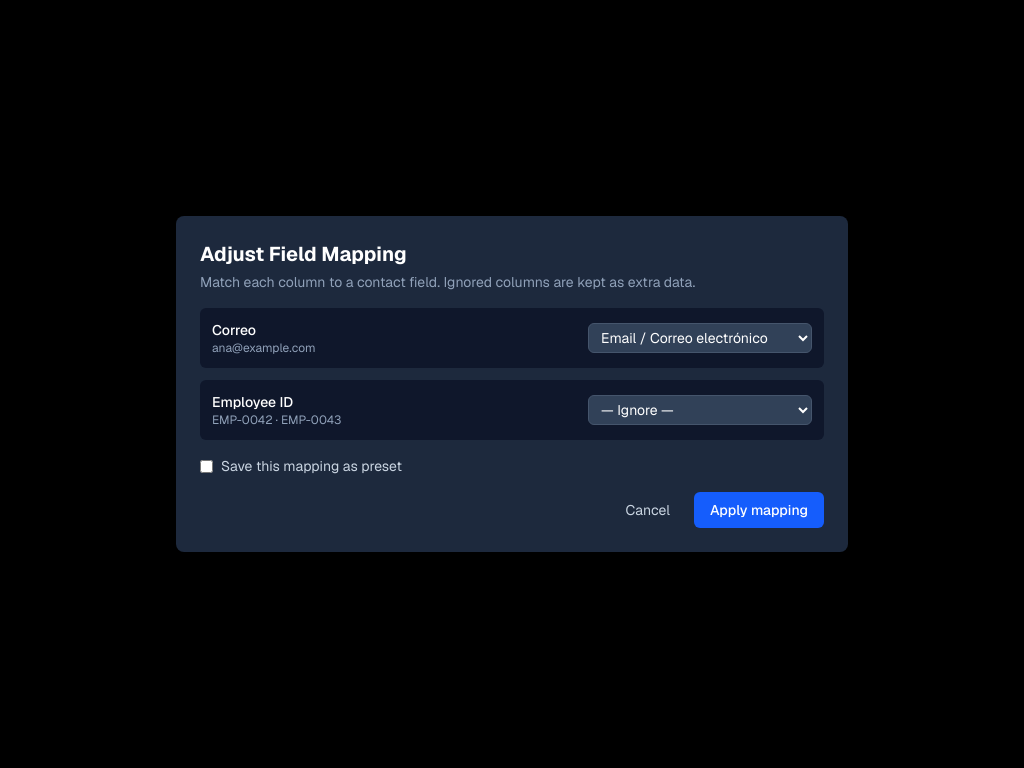
Scenario: FieldMappingModal › blocks confirm when the preset name is empty
Step 1. Click the checkbox labelled "Save this mapping as preset" → (206, 466), box [200,460,213,472]
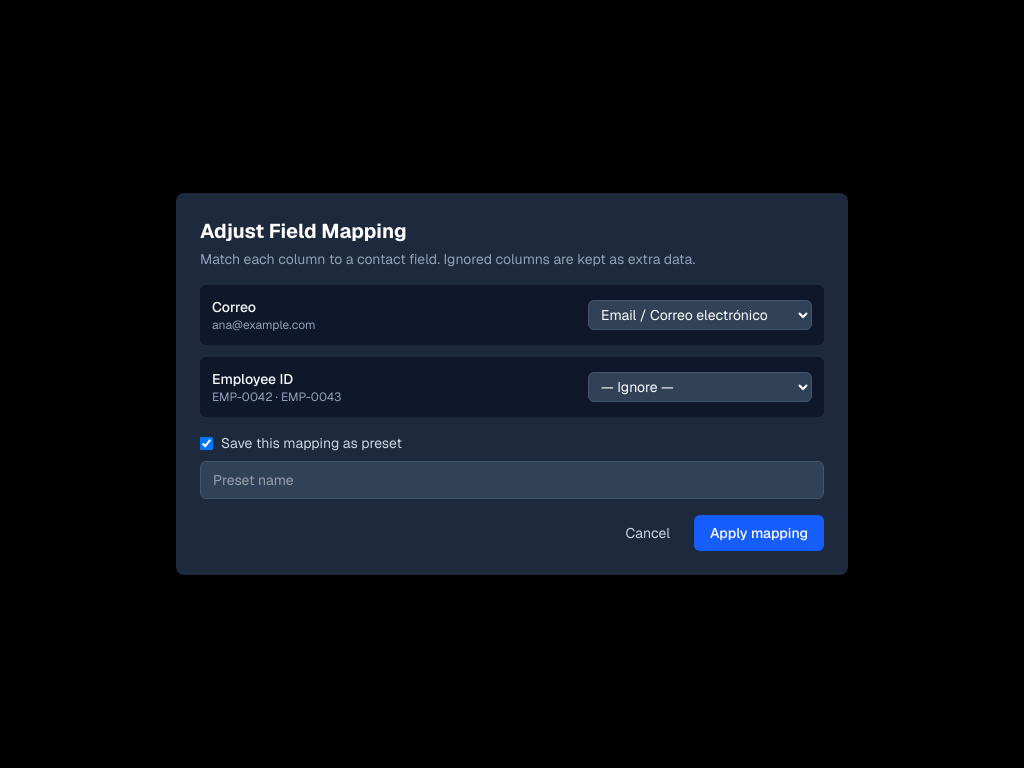
Step 2. Click the button "Apply mapping" → (759, 533), box [694,515,824,551]
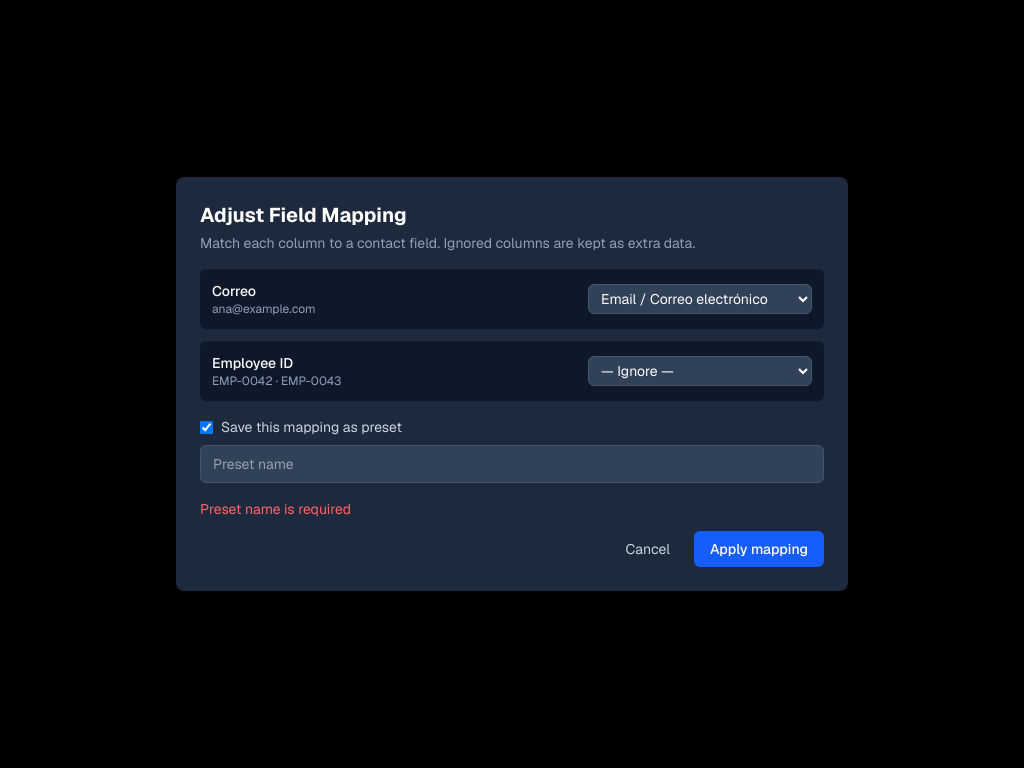
Now the text "Preset name is required" is shown, box [200,500,351,518]
